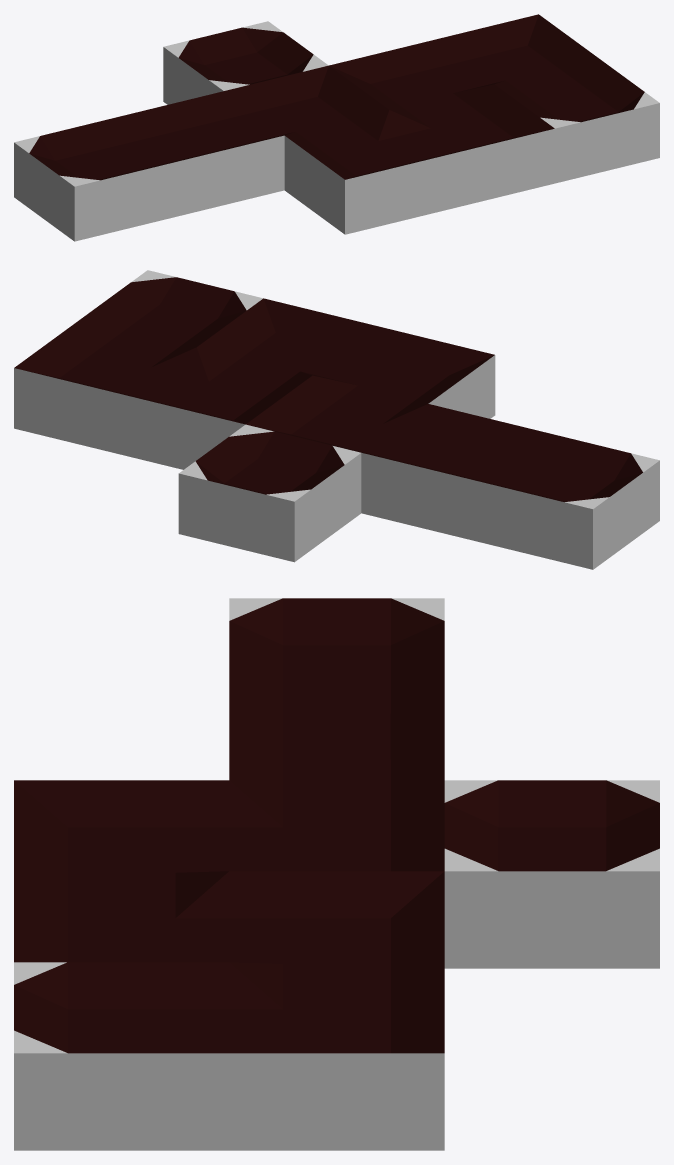
File: 10f_path.obj
The picture shows the model from 3 angles, top to bottom: view 1: azimuth 30°, elevation 25°; view 2: azimuth 150°, elevation 25°; view 3: azimuth 270°, elevation 25°; orthographic projection. The views are drawn at different scales.
Visible parts, largest first — view 1: foil.ending.0.1_ending.039, foil.corner.2.0_corner.100, foil.through.1.1_through.018, foil.corner.3.0_corner.102, foil.ending.4.0_ending.040, foil.hole.2.2_Cube.020, foil.corner.4.1_corner.104, foil.corner.2.1_corner.101, foil.corner.3.1_corner.103; view 2: foil.hole.2.2_Cube.020, foil.ending.0.1_ending.039, foil.through.1.1_through.018, foil.corner.4.1_corner.104, foil.corner.3.1_corner.103, foil.corner.2.0_corner.100, foil.corner.3.0_corner.102, foil.ending.4.0_ending.040, foil.corner.2.1_corner.101; view 3: foil.hole.2.2_Cube.020, foil.ending.4.0_ending.040, foil.corner.4.1_corner.104, foil.corner.3.1_corner.103, foil.ending.0.1_ending.039, foil.corner.2.0_corner.100, foil.through.1.1_through.018, foil.corner.2.1_corner.101, foil.corner.3.0_corner.102.
Part boxes in pixels (left/top/right/bottom): foil.ending.0.1_ending.039: left=14, top=117, right=179, bottom=241; foil.corner.2.0_corner.100: left=284, top=110, right=449, bottom=234; foil.through.1.1_through.018: left=119, top=91, right=284, bottom=215; foil.corner.3.0_corner.102: left=390, top=84, right=554, bottom=208; foil.ending.4.0_ending.040: left=495, top=59, right=659, bottom=183; foil.hole.2.2_Cube.020: left=163, top=21, right=328, bottom=104; foil.corner.4.1_corner.104: left=434, top=14, right=598, bottom=91; foil.corner.2.1_corner.101: left=224, top=65, right=388, bottom=142; foil.corner.3.1_corner.103: left=329, top=40, right=493, bottom=117; foil.hole.2.2_Cube.020: left=178, top=424, right=361, bottom=562; foil.ending.0.1_ending.039: left=477, top=432, right=659, bottom=569; foil.through.1.1_through.018: left=361, top=404, right=543, bottom=541; foil.corner.4.1_corner.104: left=14, top=319, right=196, bottom=456; foil.corner.3.1_corner.103: left=129, top=347, right=311, bottom=469; foil.corner.2.0_corner.100: left=313, top=326, right=495, bottom=418; foil.corner.3.0_corner.102: left=197, top=298, right=378, bottom=383; foil.ending.4.0_ending.040: left=81, top=270, right=262, bottom=355; foil.corner.2.1_corner.101: left=246, top=375, right=427, bottom=455; foil.hole.2.2_Cube.020: left=444, top=780, right=659, bottom=968; foil.ending.4.0_ending.040: left=14, top=962, right=229, bottom=1150; foil.corner.4.1_corner.104: left=229, top=962, right=444, bottom=1150; foil.corner.3.1_corner.103: left=229, top=871, right=444, bottom=986; foil.ending.0.1_ending.039: left=229, top=598, right=444, bottom=713; foil.corner.2.0_corner.100: left=14, top=780, right=229, bottom=895; foil.through.1.1_through.018: left=229, top=689, right=444, bottom=804; foil.corner.2.1_corner.101: left=229, top=780, right=444, bottom=871; foil.corner.3.0_corner.102: left=14, top=871, right=229, bottom=962.
Size of the model in its own units: 10 by 1 by 6.
